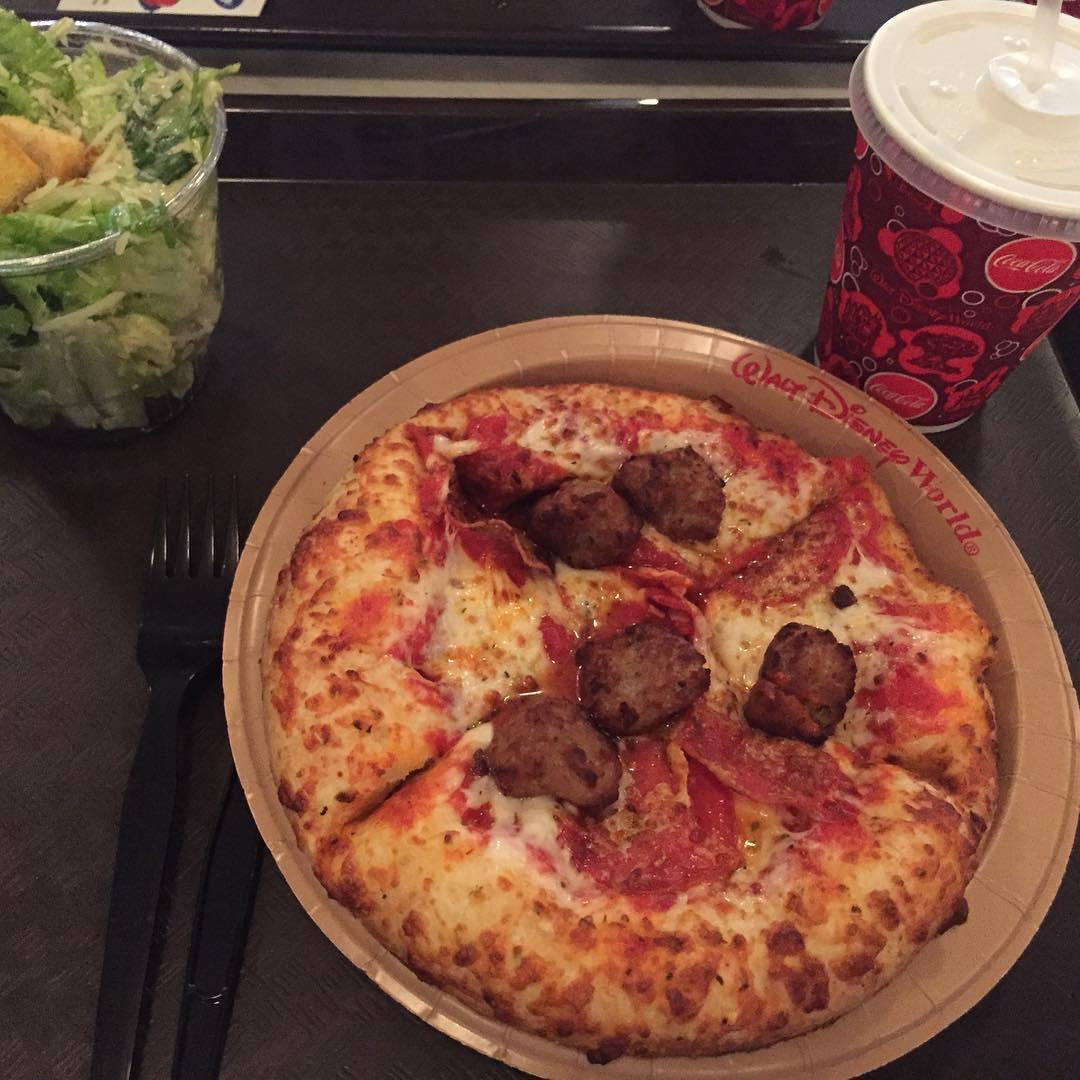Pepperoni: (558, 739, 738, 901), (678, 705, 854, 826), (707, 495, 853, 607), (408, 495, 550, 593), (417, 415, 576, 495), (621, 538, 714, 644)
Pizza: (260, 372, 1010, 1070)
